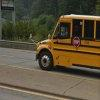Bus: (33, 10, 100, 78)
